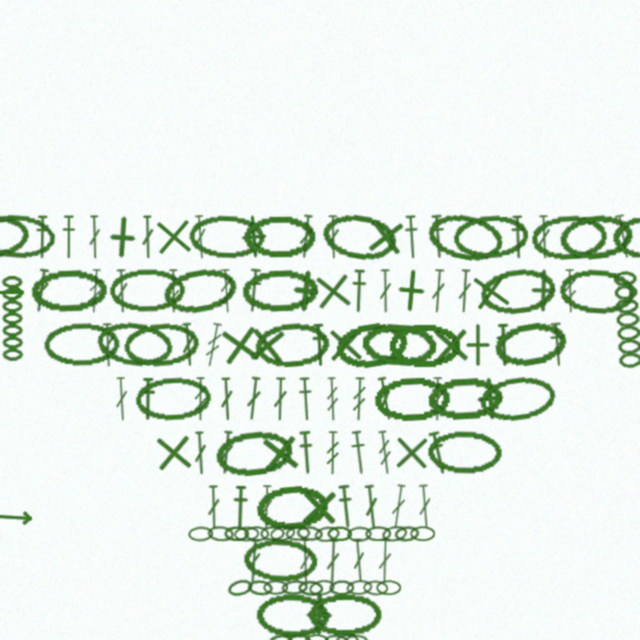chain: (424, 208, 506, 266), (160, 263, 241, 319), (477, 372, 559, 426), (332, 317, 412, 372), (491, 317, 571, 372), (319, 209, 399, 264), (94, 318, 176, 371), (213, 427, 294, 479), (478, 265, 557, 317), (557, 211, 636, 262), (122, 320, 200, 370), (253, 320, 332, 369), (254, 482, 331, 532), (134, 375, 213, 423), (530, 213, 609, 261), (426, 375, 503, 423), (360, 321, 437, 369), (558, 267, 635, 315), (452, 213, 529, 261), (373, 375, 450, 422), (188, 214, 266, 260), (242, 537, 318, 584), (30, 268, 107, 314), (241, 268, 318, 314), (43, 322, 121, 367), (255, 592, 331, 638), (109, 268, 186, 313), (427, 430, 503, 475), (308, 593, 383, 637), (388, 323, 462, 367), (243, 215, 317, 259), (0, 212, 56, 261), (0, 212, 30, 262), (612, 215, 640, 259), (226, 577, 254, 598), (308, 578, 336, 597), (269, 524, 296, 543), (381, 524, 408, 543), (314, 525, 340, 543), (281, 579, 308, 596), (346, 579, 373, 596), (207, 525, 234, 542), (296, 525, 323, 542), (247, 579, 273, 596), (285, 525, 311, 542), (394, 525, 420, 542), (298, 580, 323, 596), (363, 580, 388, 596), (188, 526, 213, 542), (234, 526, 259, 542), (347, 526, 372, 542), (365, 526, 391, 541), (263, 580, 288, 595), (329, 580, 354, 595), (376, 580, 401, 595), (224, 526, 249, 541), (244, 526, 269, 541), (260, 526, 285, 541), (327, 526, 352, 541), (410, 526, 435, 541), (267, 633, 293, 640), (334, 633, 360, 640), (287, 634, 312, 640), (304, 634, 329, 640), (324, 634, 349, 640), (344, 634, 369, 640)
double: (388, 484, 409, 529), (375, 376, 396, 421), (31, 268, 52, 313), (362, 484, 381, 529), (217, 430, 236, 475), (244, 376, 263, 421), (350, 538, 368, 583), (416, 484, 434, 529), (179, 322, 197, 367), (297, 214, 315, 259), (245, 539, 263, 583), (429, 269, 447, 313), (192, 431, 209, 475), (113, 377, 130, 421), (218, 377, 235, 421), (456, 269, 473, 313), (192, 215, 209, 259), (325, 539, 341, 583), (377, 539, 393, 583), (272, 377, 288, 421), (100, 323, 116, 367), (114, 269, 130, 313), (325, 215, 341, 259), (536, 215, 552, 259), (298, 539, 313, 583), (206, 485, 221, 529), (259, 485, 274, 529), (430, 377, 445, 421), (378, 269, 393, 313), (87, 215, 102, 259), (140, 215, 155, 259)
enseble_chain: (611, 270, 640, 370), (0, 275, 25, 364)
half_double: (425, 430, 451, 476), (348, 430, 370, 475), (335, 484, 356, 529), (296, 430, 316, 475), (547, 322, 567, 367), (244, 268, 264, 313), (428, 214, 448, 259), (296, 377, 315, 421), (310, 323, 329, 367), (494, 323, 513, 367), (402, 215, 421, 259), (231, 485, 249, 529), (350, 269, 368, 313), (509, 215, 527, 259), (139, 377, 156, 421), (60, 215, 77, 259), (34, 215, 50, 259)
noise: (0, 508, 34, 526), (0, 286, 26, 298)
single: (215, 320, 265, 370), (466, 266, 516, 316), (361, 212, 410, 261), (256, 429, 304, 477), (243, 321, 291, 369), (282, 267, 330, 315), (309, 267, 357, 315), (150, 429, 197, 476), (467, 375, 514, 422), (388, 267, 435, 314), (150, 213, 197, 260), (230, 213, 277, 260), (428, 322, 474, 368), (99, 214, 145, 260), (296, 592, 341, 637), (389, 430, 434, 475), (323, 322, 368, 367), (521, 268, 566, 313), (297, 485, 341, 529), (456, 323, 500, 367)
treble: (202, 322, 225, 368), (612, 214, 634, 259), (375, 430, 395, 475), (86, 269, 104, 313), (218, 269, 235, 313), (351, 377, 367, 421), (562, 269, 578, 313), (325, 431, 340, 475), (193, 377, 208, 421), (325, 377, 340, 421), (166, 269, 181, 313)
